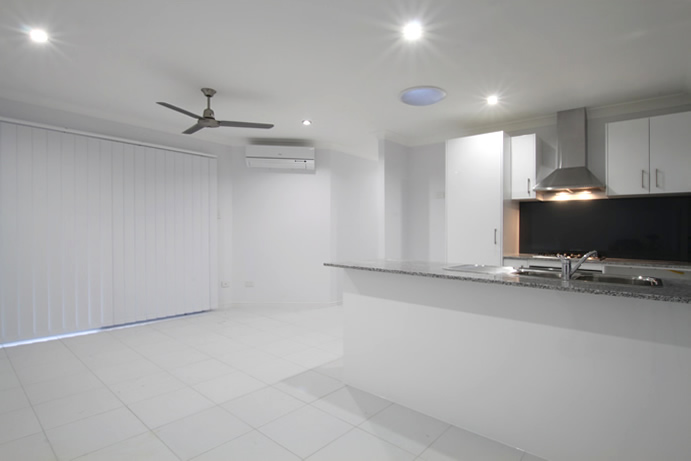ceiling fan: (147, 82, 282, 140)
